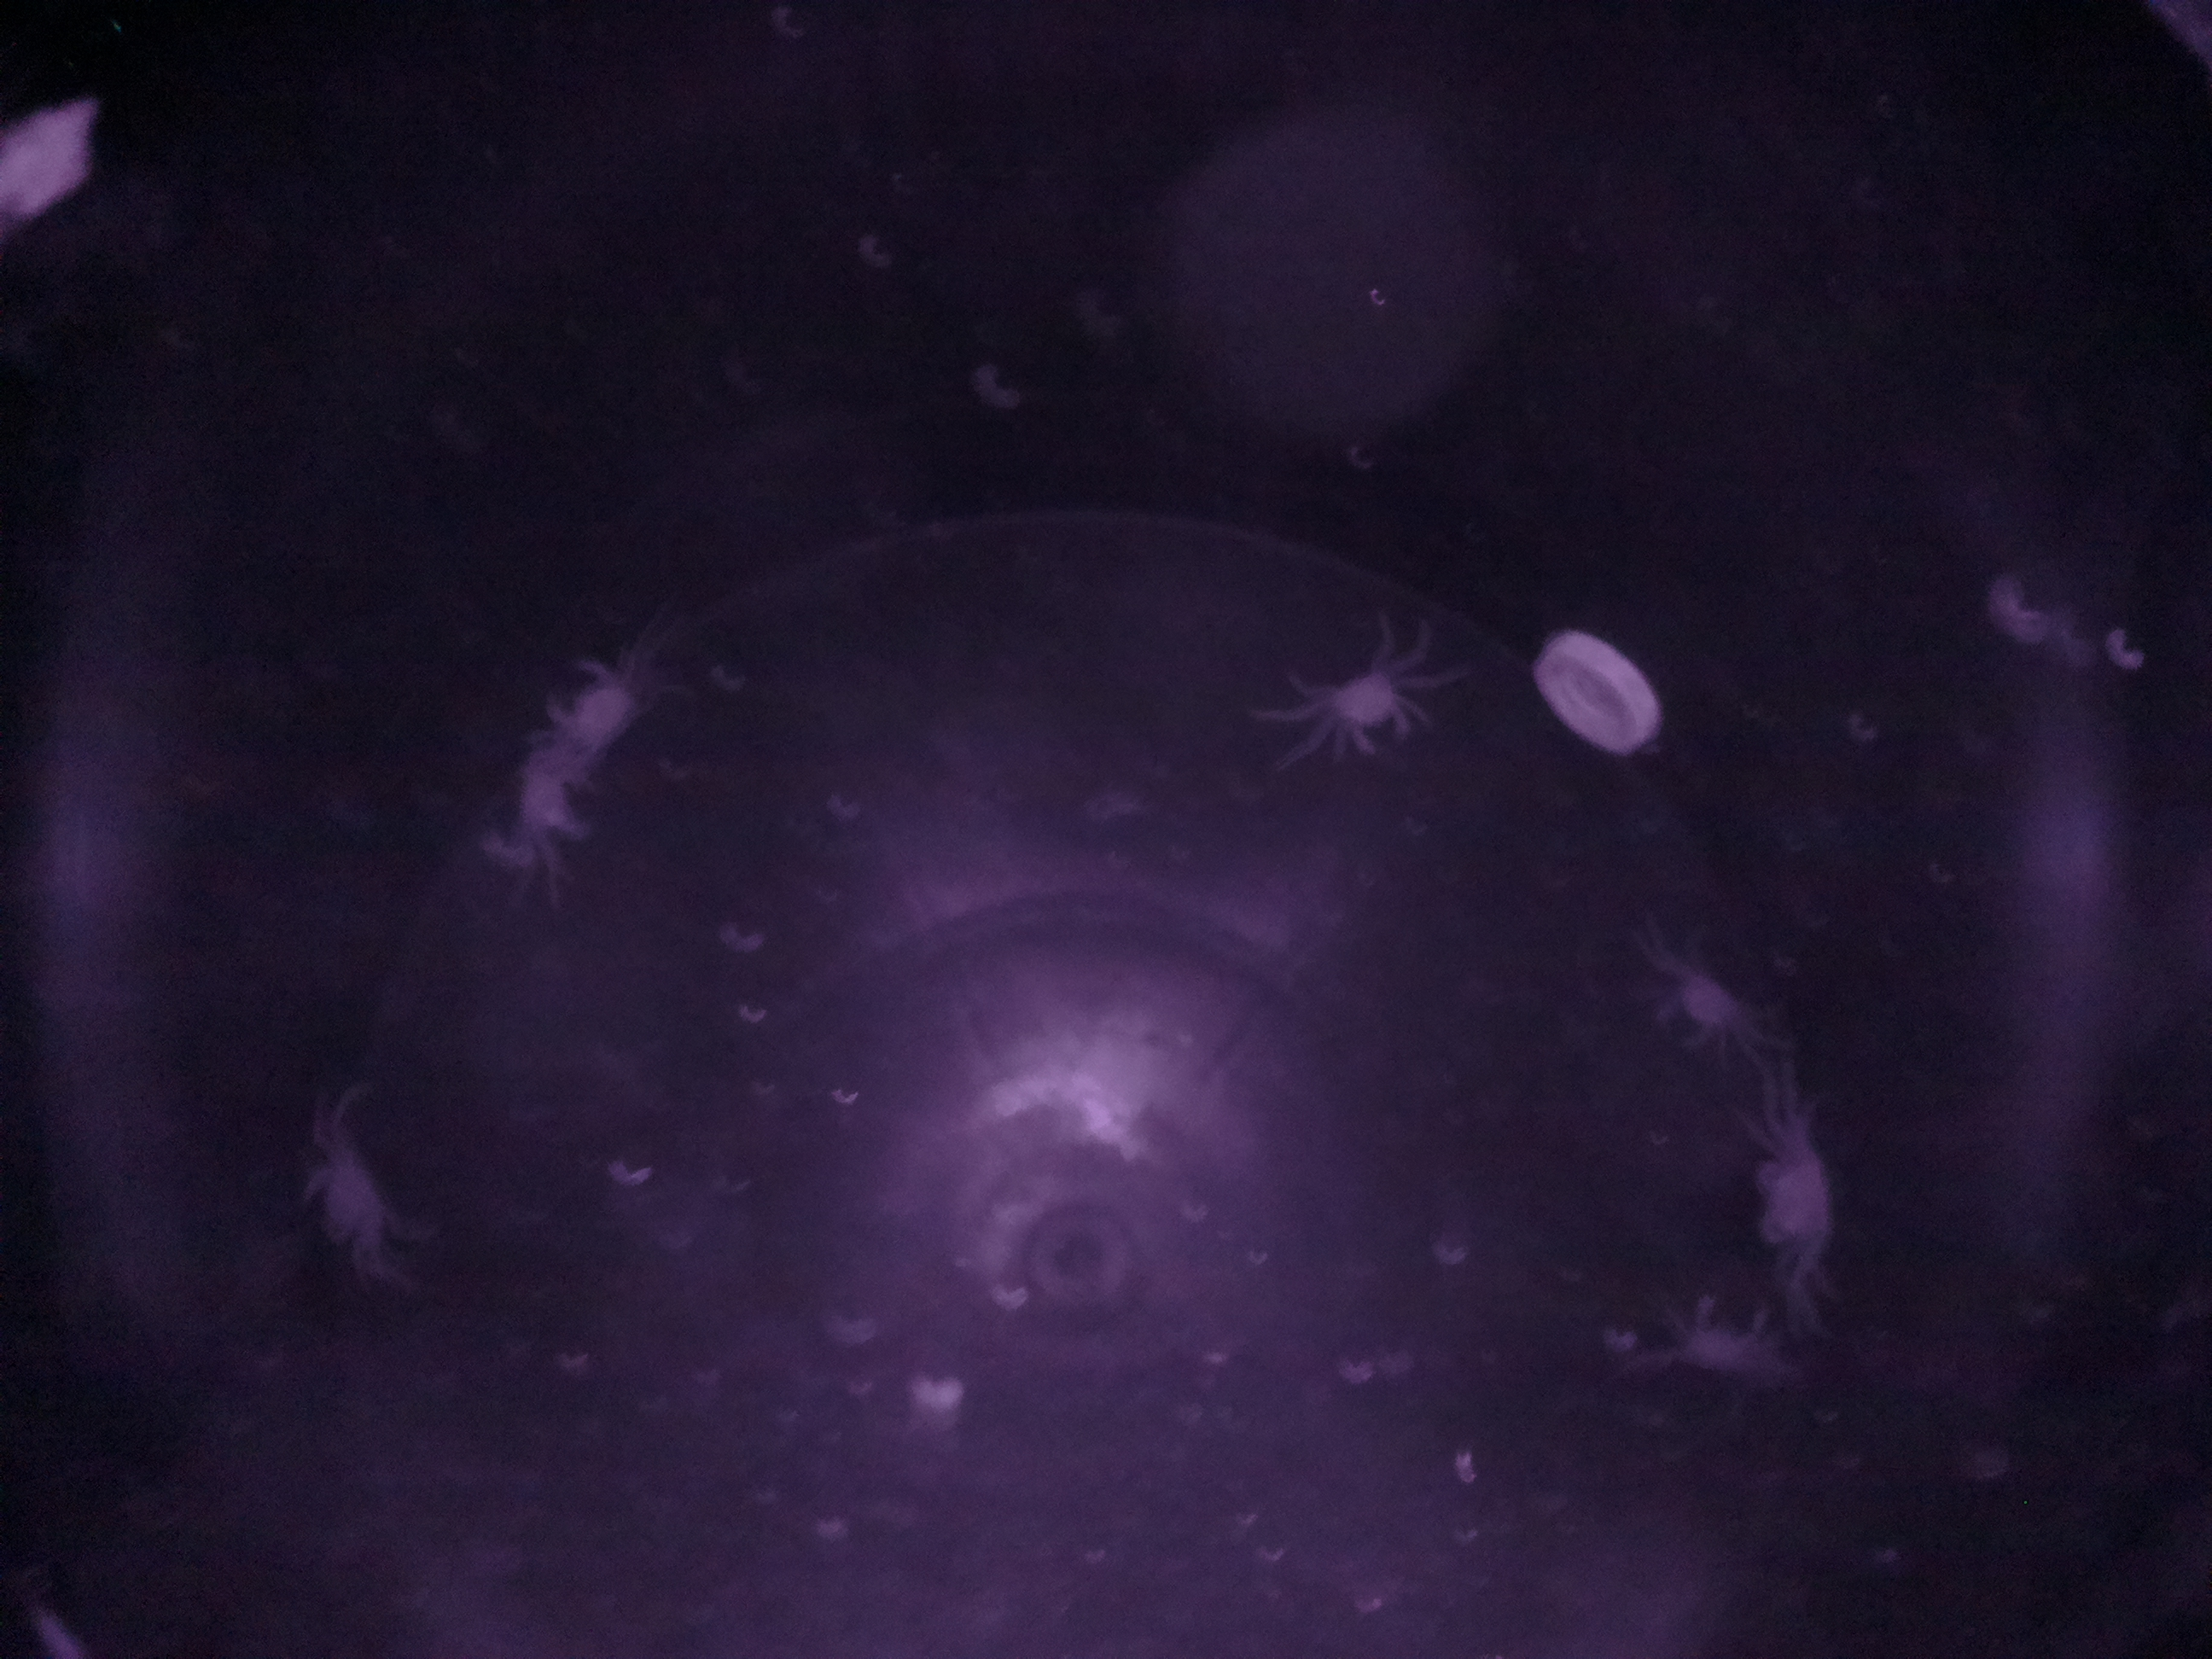Crab: (1735, 1122, 1862, 1283), (1315, 643, 1428, 775)
